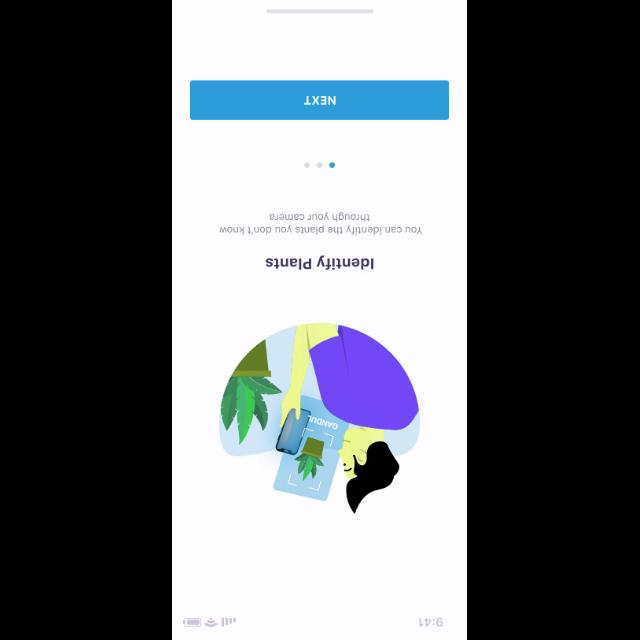image: (220, 322, 420, 514)
pageindicator: (304, 162, 336, 168)
text: (219, 212, 423, 234), (266, 254, 374, 270)
textbutton: (191, 80, 449, 120)
uppertaskbar: (183, 616, 443, 626)
